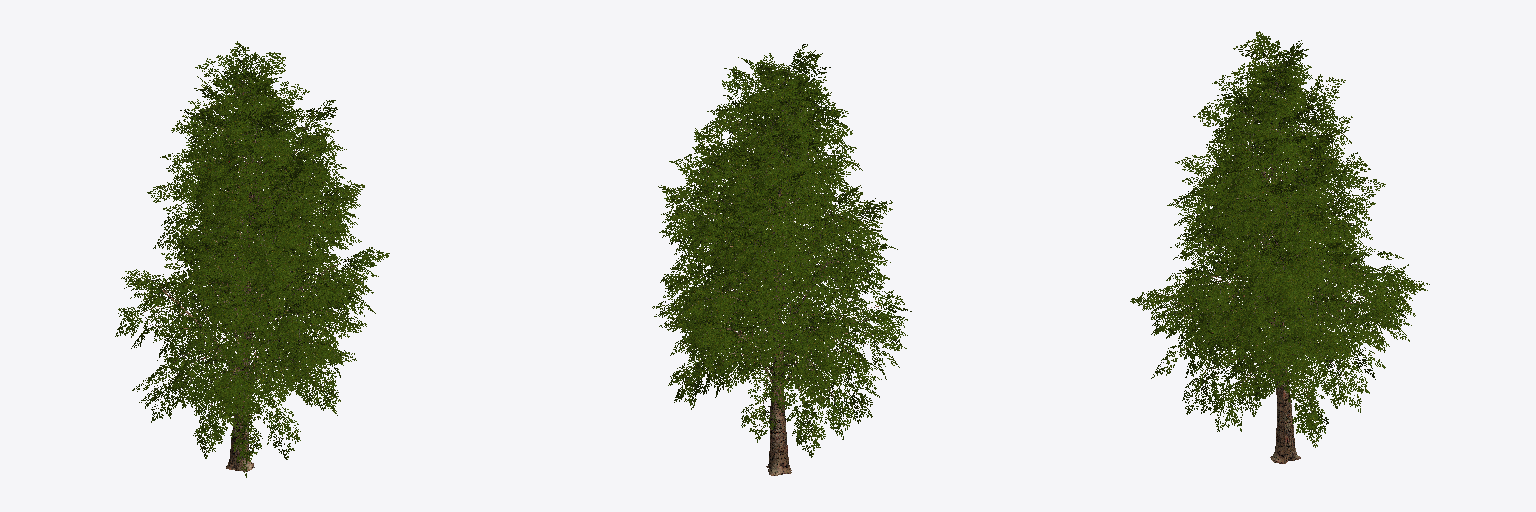
3 renders of one model, left to right at view 1: azimuth 30°, elevation 25°; view 2: azimuth 150°, elevation 25°; view 3: azimuth 270°, elevation 25°, orthographic.
Visible parts, largest first — view 1: g2, g1; view 2: g2, g1; view 3: g2, g1.
Part boxes in pixels (bbox=[...]): g2: bbox=[115, 41, 389, 477]; g1: bbox=[143, 78, 348, 471]; g2: bbox=[652, 44, 911, 457]; g1: bbox=[687, 71, 878, 475]; g2: bbox=[1130, 31, 1429, 447]; g1: bbox=[1171, 70, 1386, 463].
Size of the model in its own units: 4.24 by 7.59 by 4.99.
Materials: 2 (2 with a texture image).